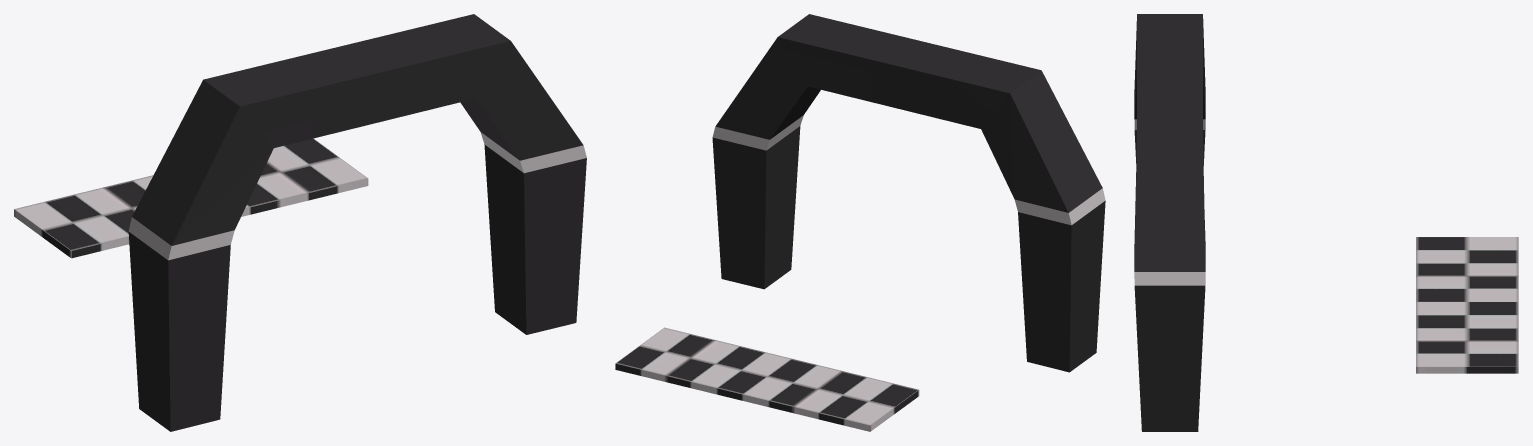
Rendered from end.glb.
3 renders of one model, left to right at view 1: azimuth 30°, elevation 25°; view 2: azimuth 150°, elevation 25°; view 3: azimuth 270°, elevation 25°, orthographic. The views are drawn at different scales.
Parts seen in each view (by area): view 1: endDoor, endPad; view 2: endDoor, endPad; view 3: endDoor, endPad.
Part boxes in pixels (x1,y1,x2,y2): endDoor: (128, 14, 586, 431); endPad: (14, 138, 368, 258); endDoor: (712, 14, 1105, 372); endPad: (615, 327, 919, 431); endDoor: (1134, 14, 1205, 431); endPad: (1416, 237, 1518, 373).
Size of the model in its own units: 9.6 by 6.81 by 8.51.
Materials: 1 (1 with a texture image).
